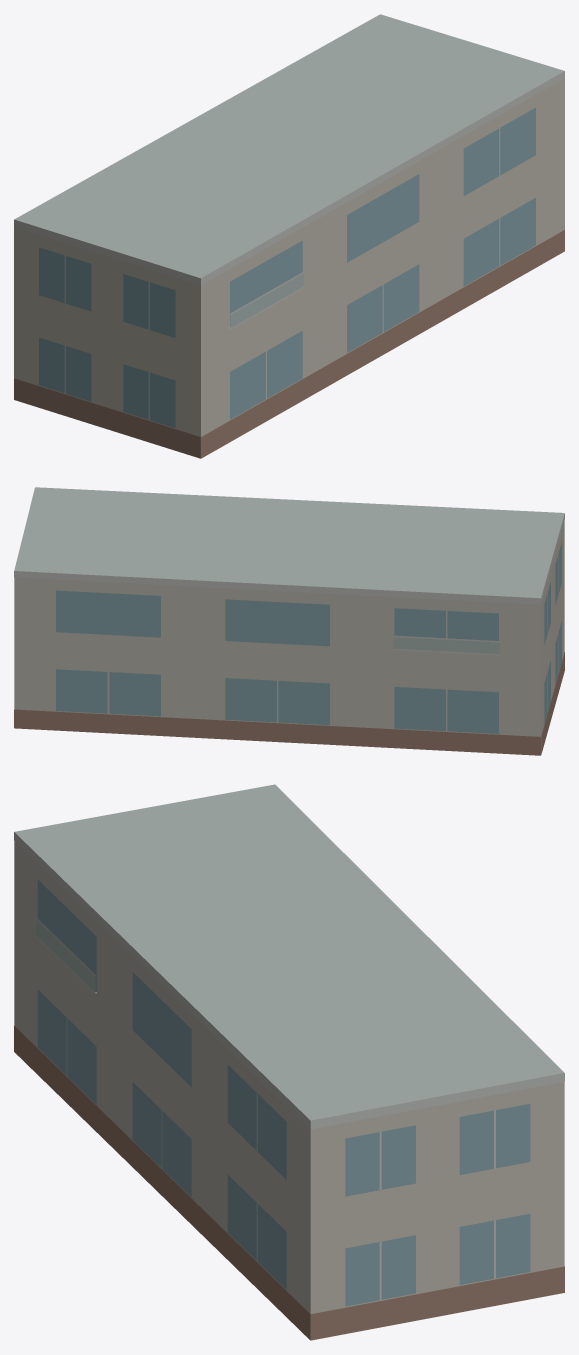
File: survey-upis-32853133.glb
The picture shows the model from 3 angles, top to bottom: view 1: azimuth 30°, elevation 25°; view 2: azimuth 150°, elevation 25°; view 3: azimuth 270°, elevation 25°; orthographic projection. The views are drawn at different scales.
Visible parts, largest first — view 1: survey-upis-32853133.tmp; view 2: survey-upis-32853133.tmp; view 3: survey-upis-32853133.tmp.
Part boxes in pixels (left/top/right/bottom): survey-upis-32853133.tmp: left=14, top=14, right=564, bottom=458; survey-upis-32853133.tmp: left=14, top=487, right=564, bottom=755; survey-upis-32853133.tmp: left=14, top=784, right=564, bottom=1340.
Bounding box in the file's own units: 20.02 × 6.1 × 13.85.
